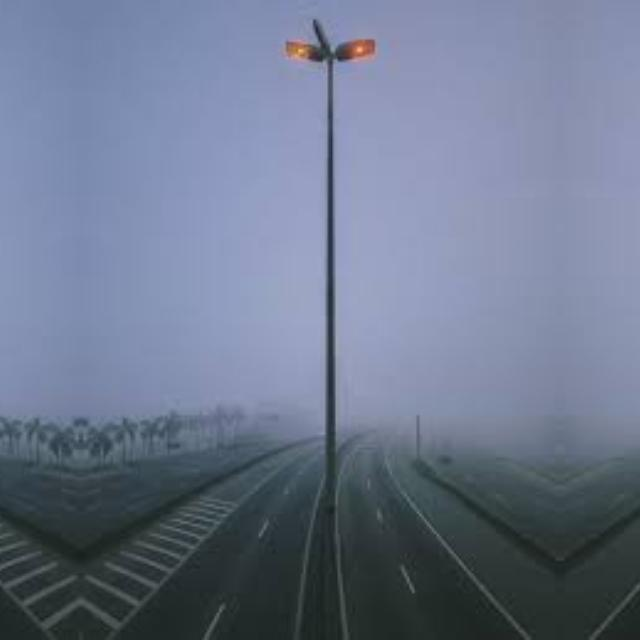obstacle: (282, 209, 378, 519)
